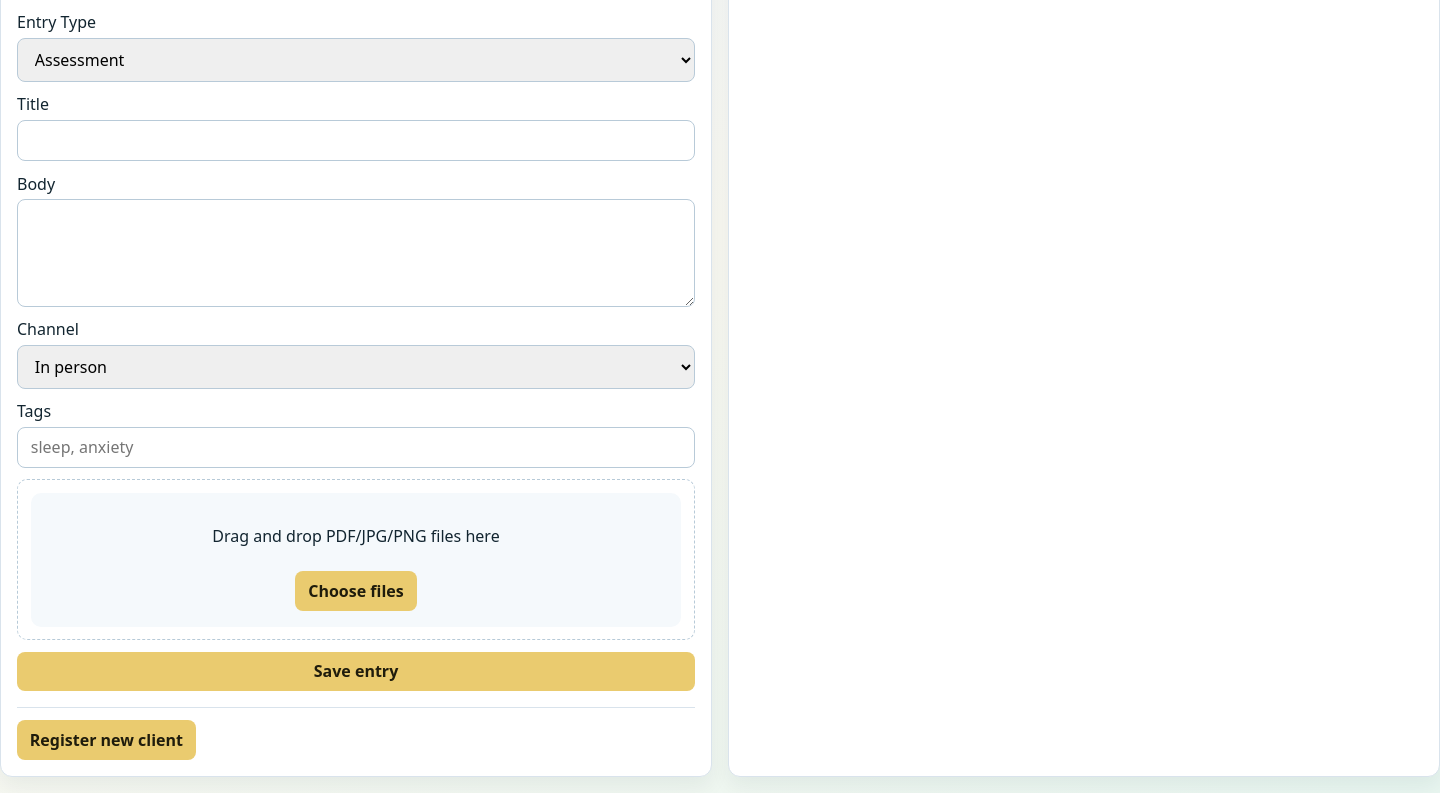
ClinicianModule — form validation › shows clientId error when submitting without selecting a client
(page scrolled)
Click the button "Save entry": coordinates (356, 672) [17,652,695,691]
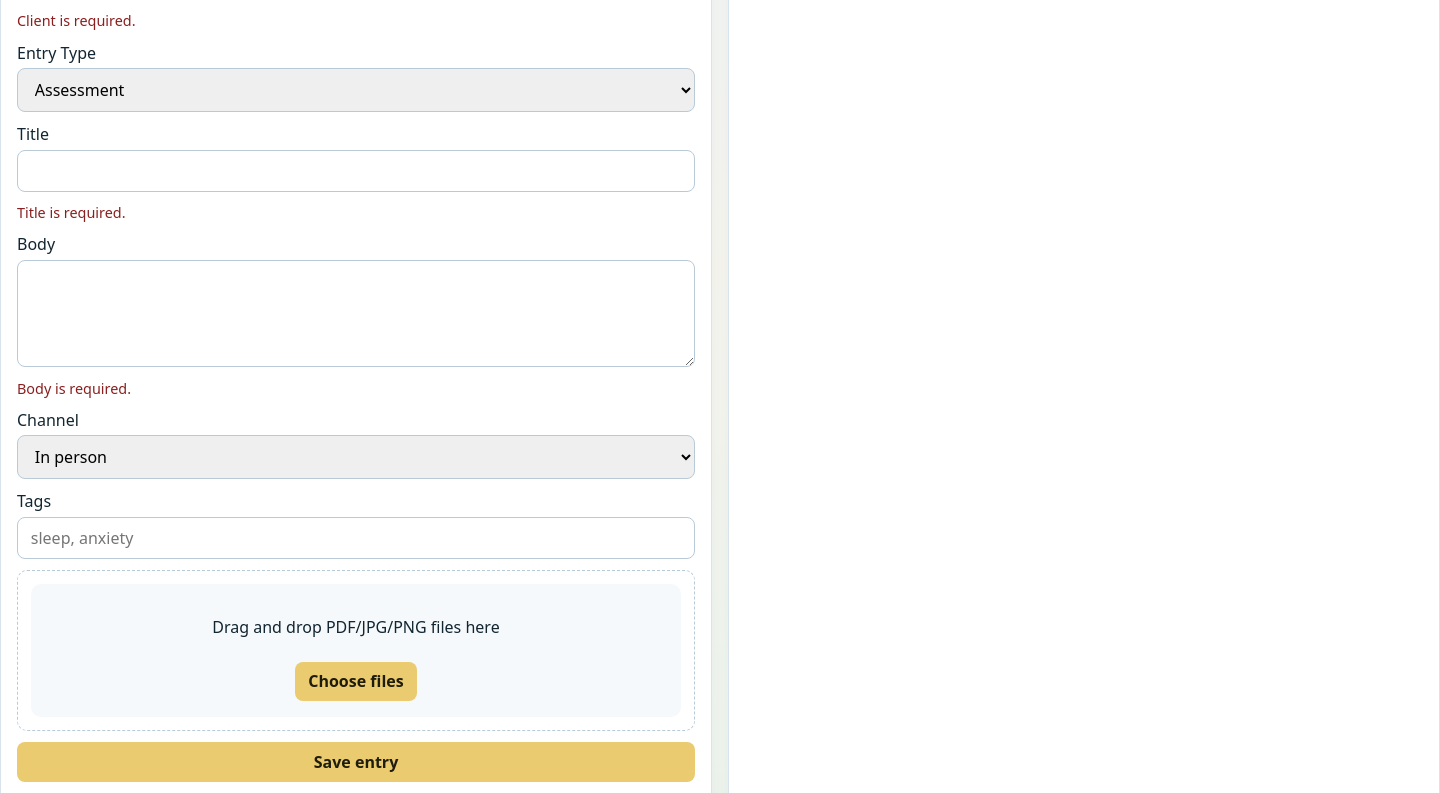
Expected: the text "Client is required." is shown, [17,11,136,30]
